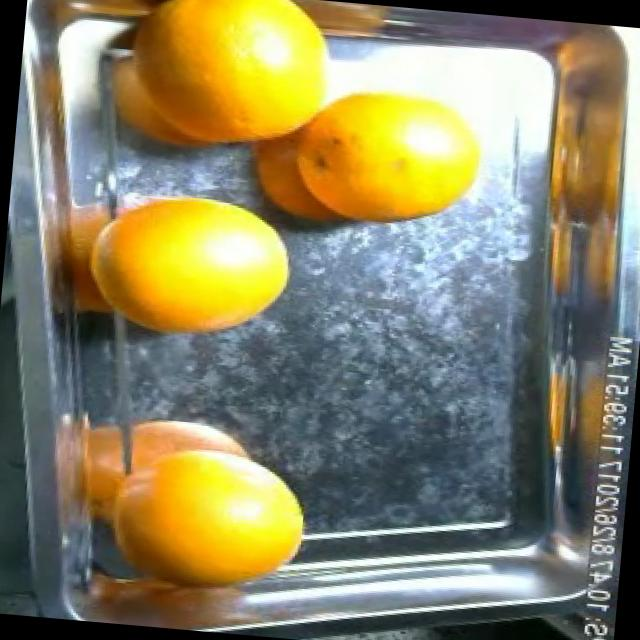Fruit: (288, 59, 506, 244), (100, 192, 310, 358), (270, 0, 409, 52)
